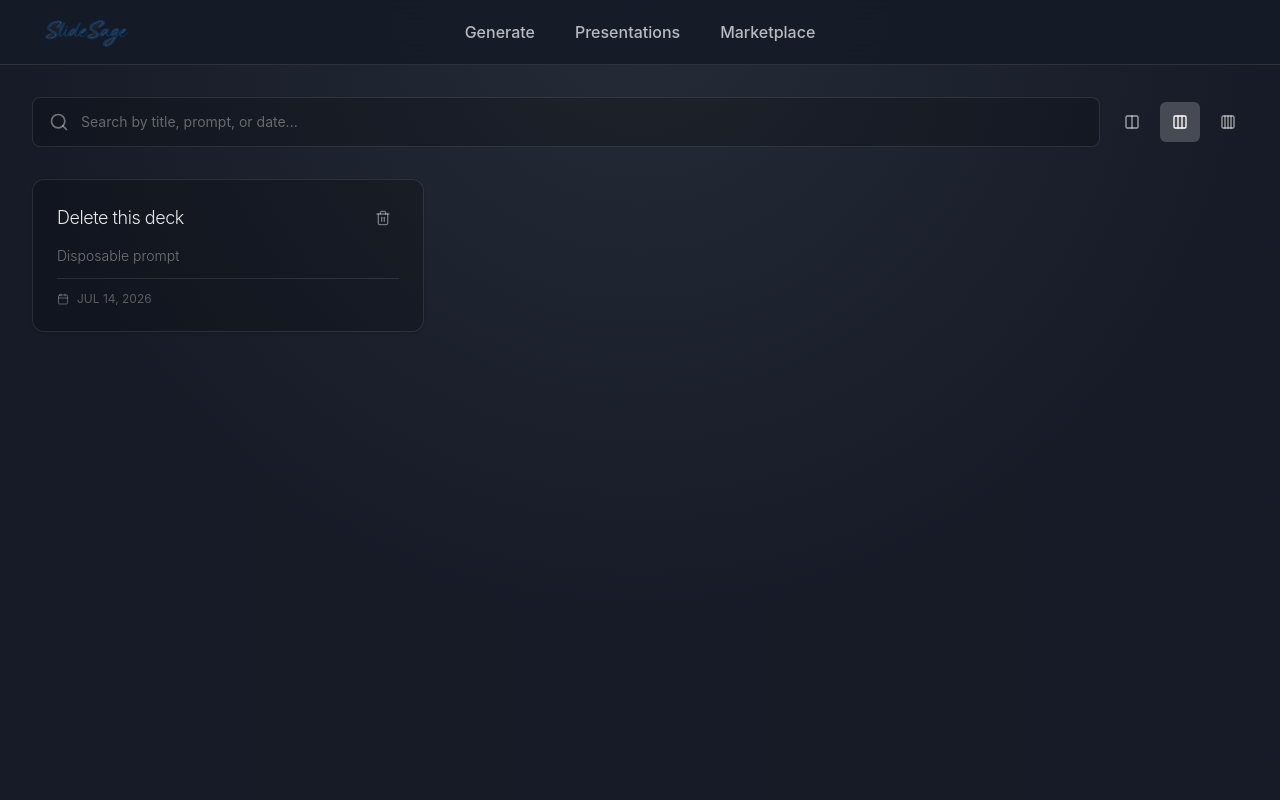
Test: removes a presentation after an empty 204 delete response
Click the 4th button at x=383, y=218, box [367,202,399,234]
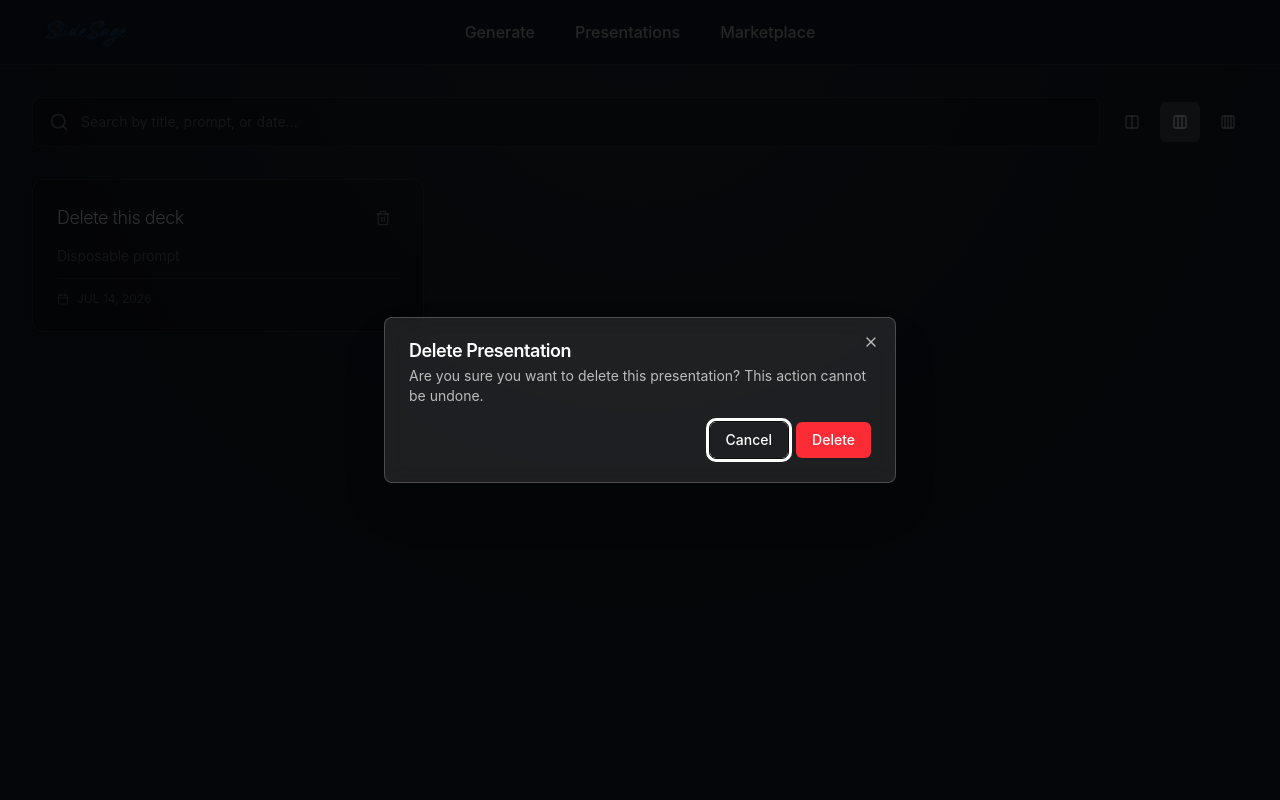
Click the button "Delete" at x=834, y=440, box [796,422,871,458]
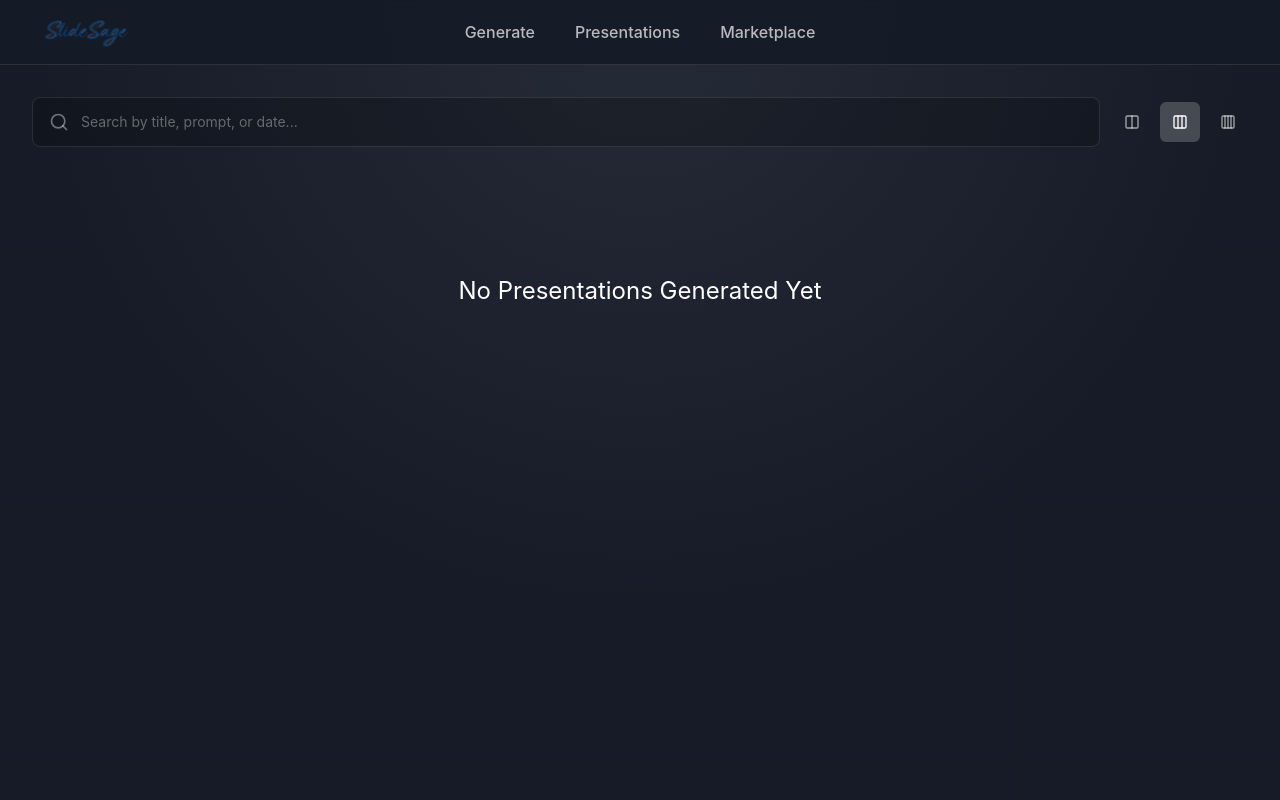
Result: the text "Delete this deck" is gone
